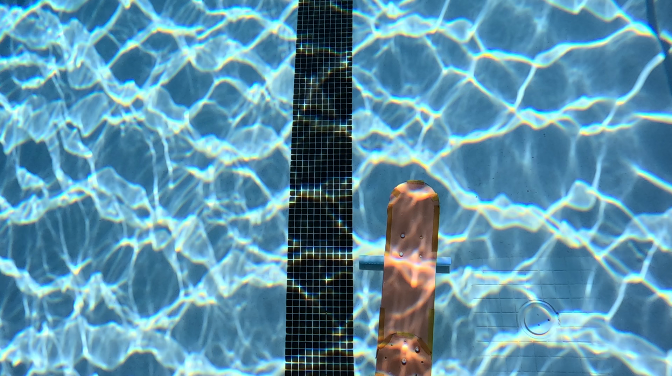pathmarker: (375, 181, 439, 374)
